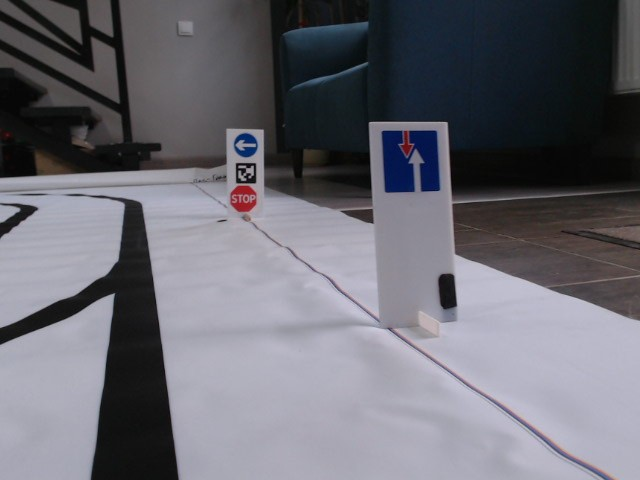Stop: (229, 184, 258, 213)
priority_movement: (379, 128, 442, 194)
